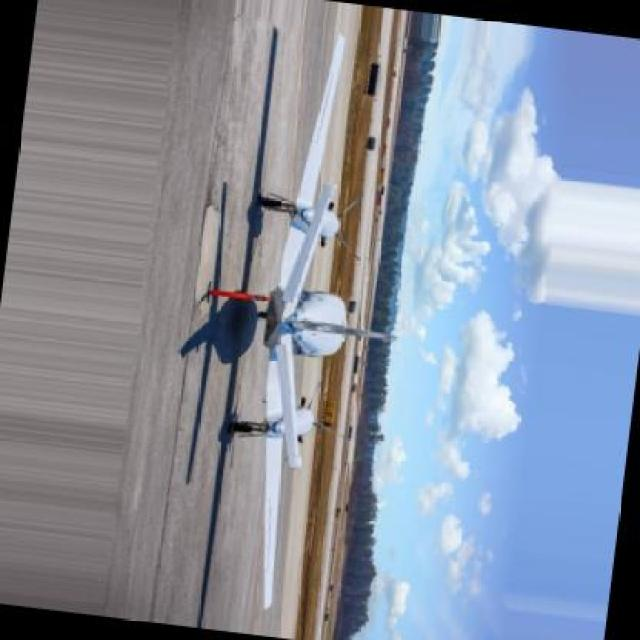iha: (210, 34, 383, 472)
